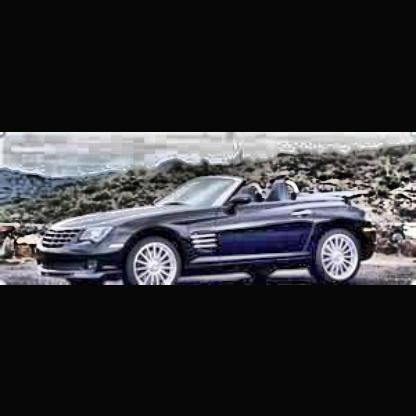Chrysler Crossfire Convertible 2008: (37, 173, 376, 285)
